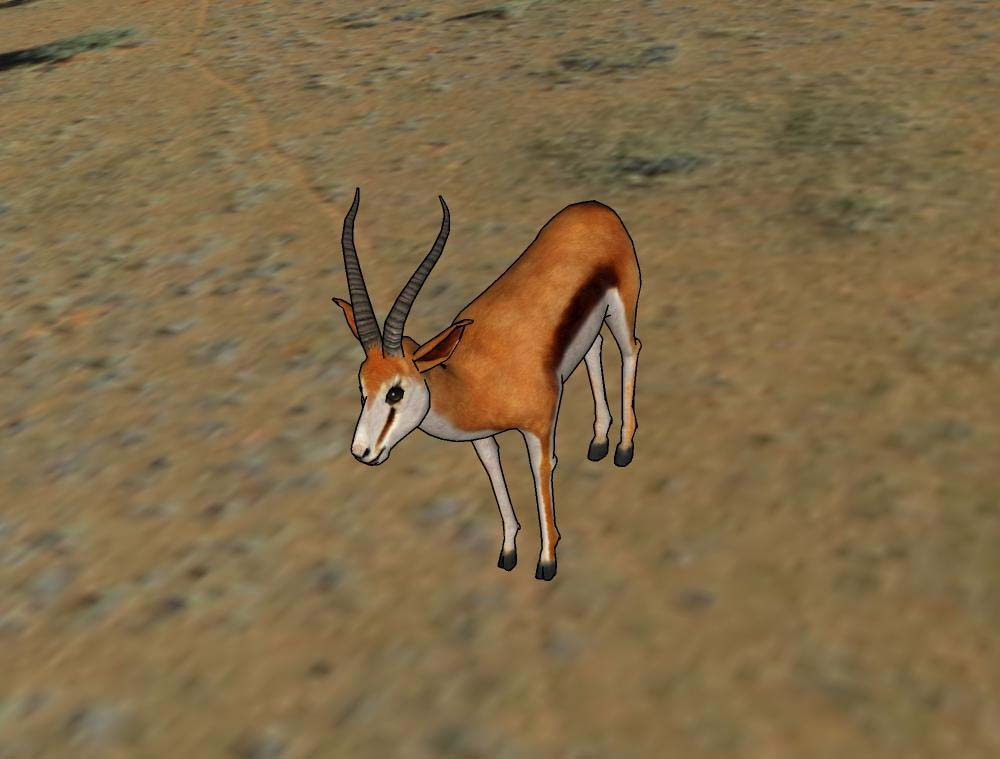springbok: (324, 177, 652, 586)
